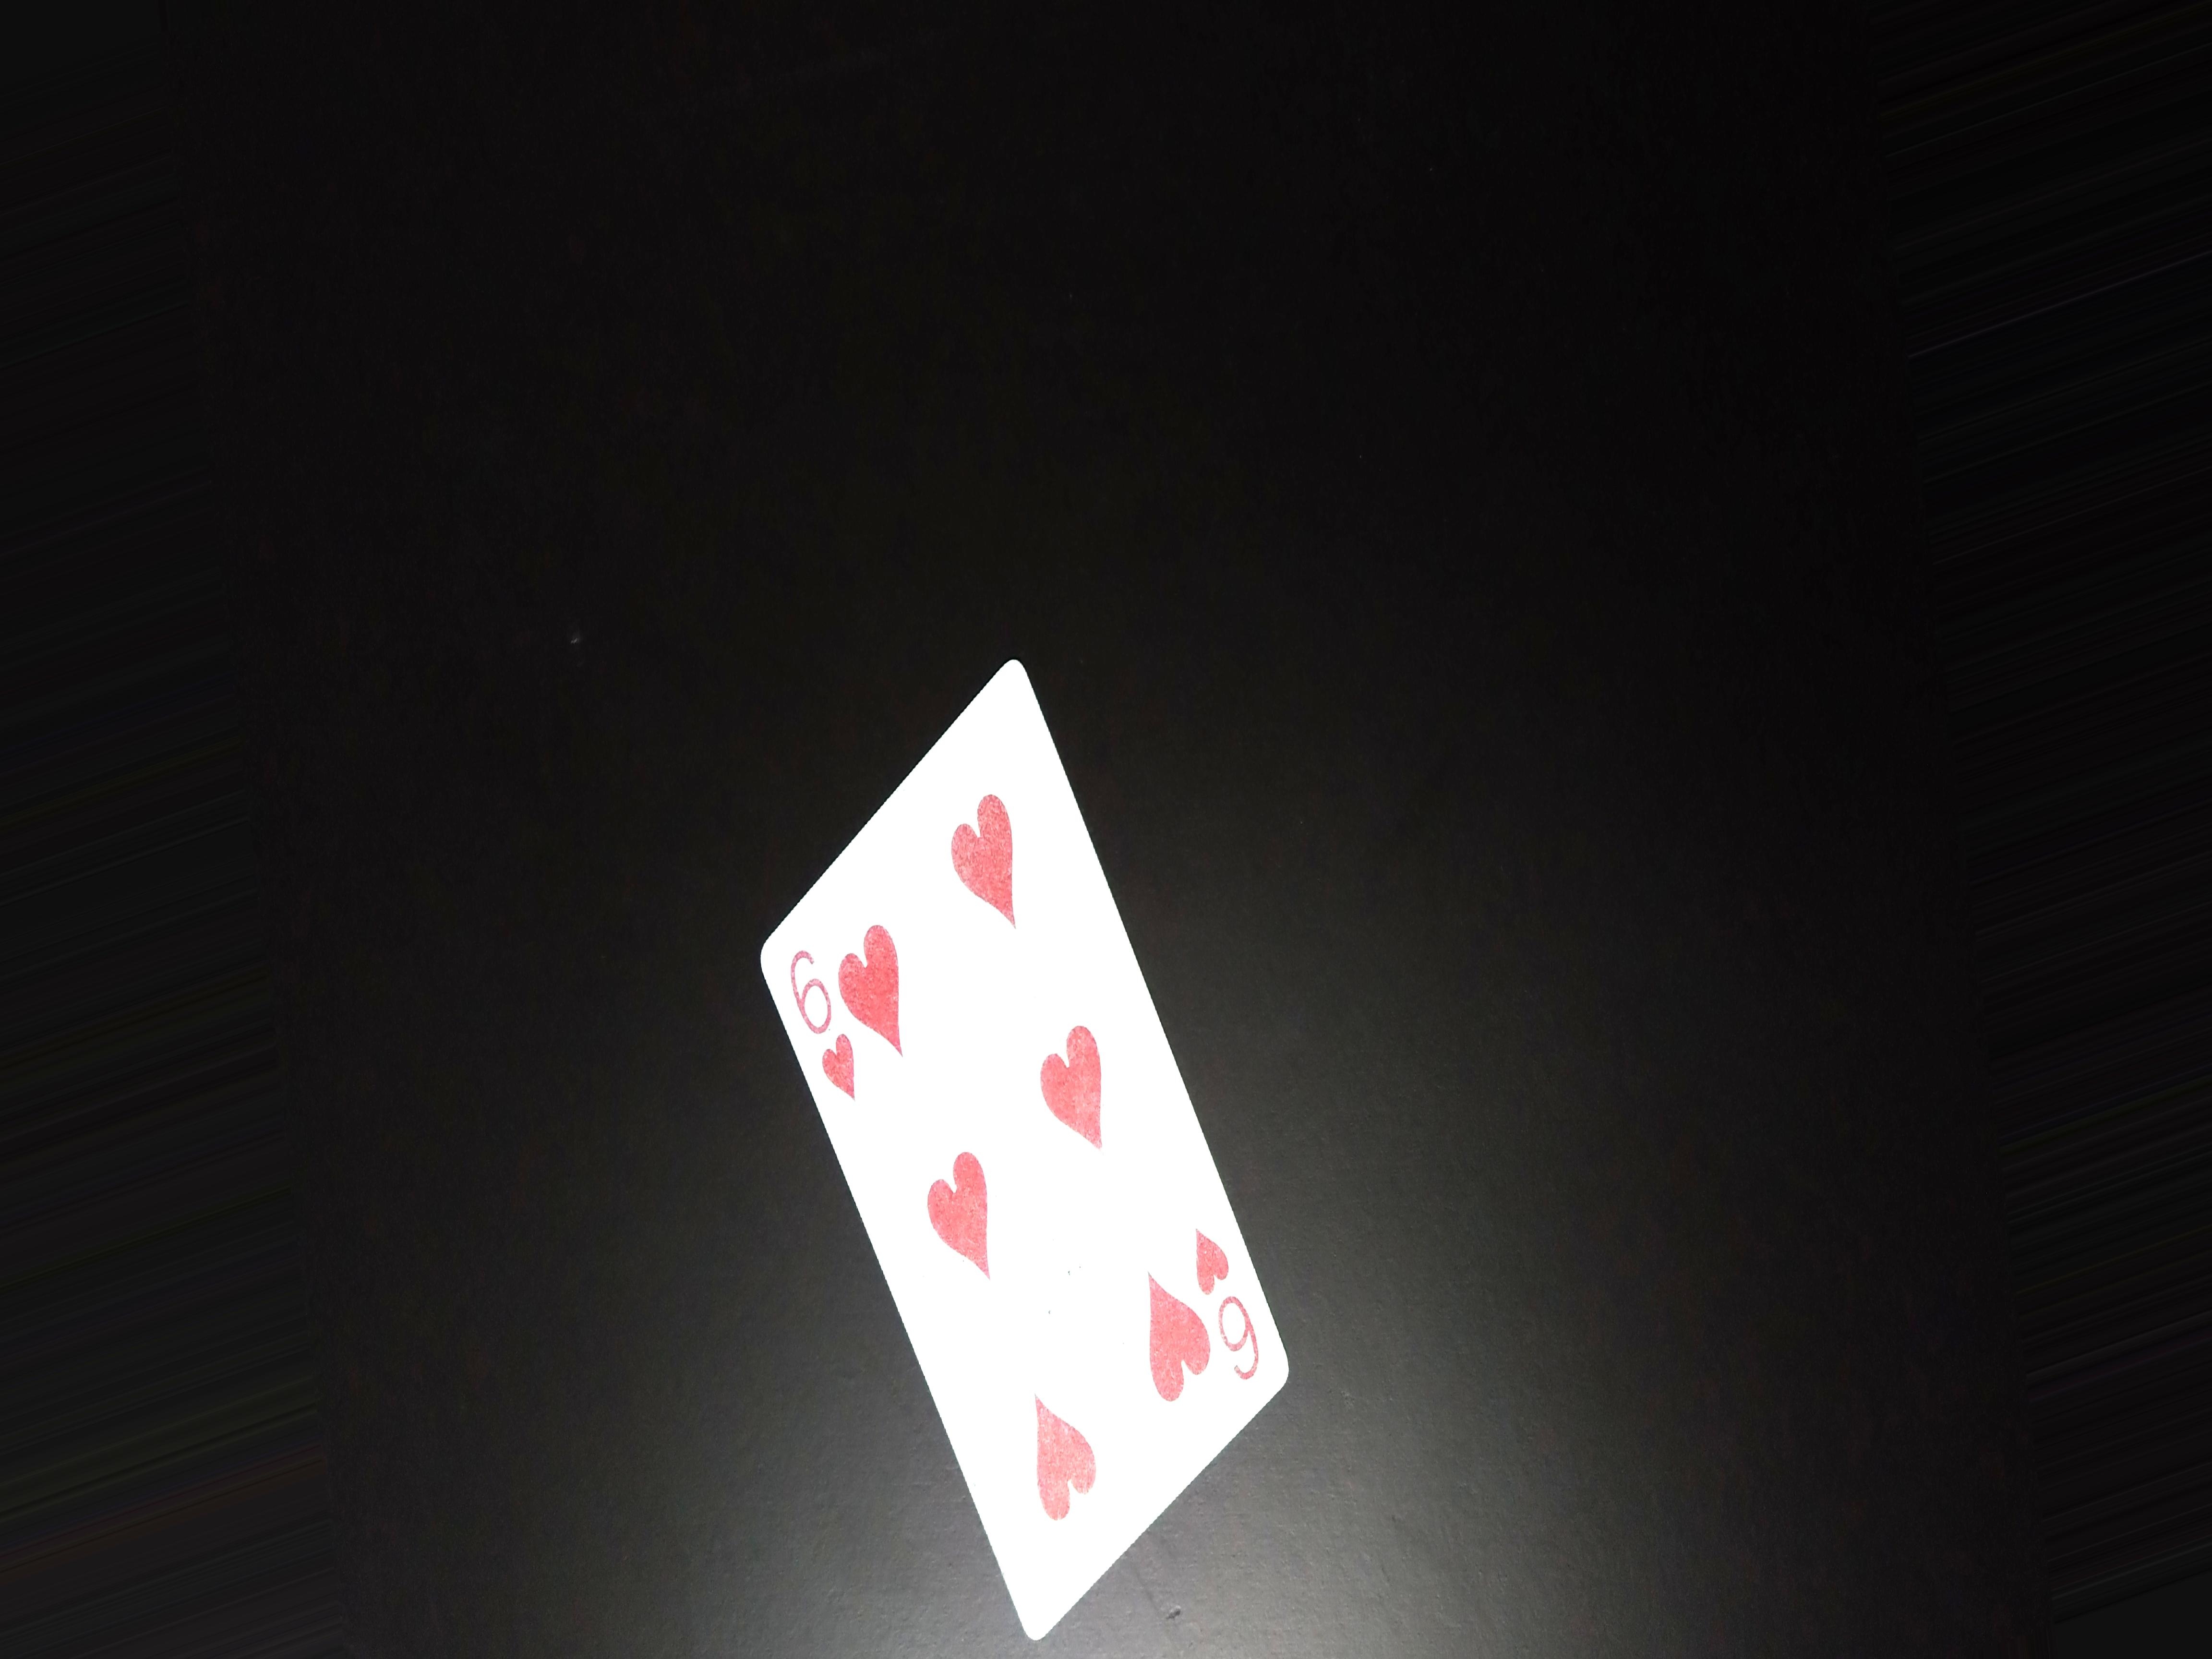6H: (787, 931, 869, 1103)
